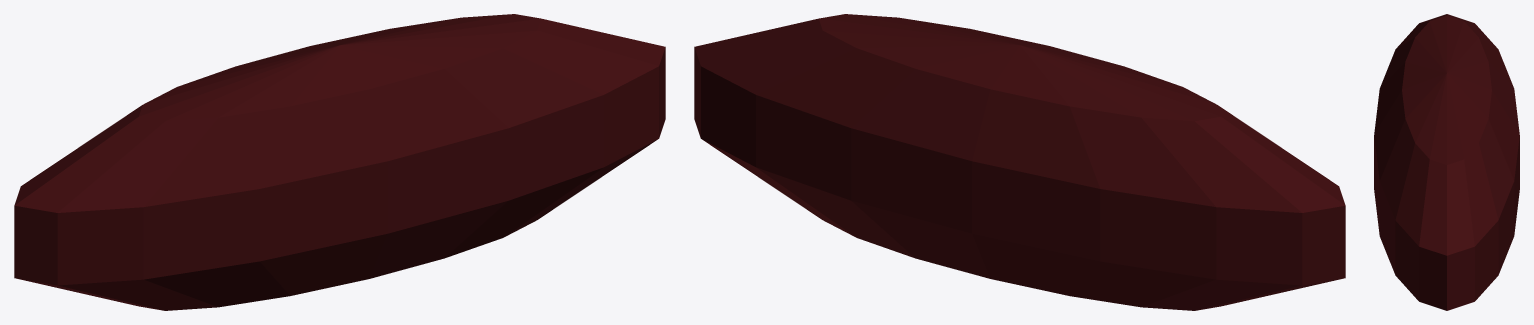
File: Mouth.obj
The picture shows the model from 3 angles, left to right: view 1: azimuth 30°, elevation 25°; view 2: azimuth 150°, elevation 25°; view 3: azimuth 270°, elevation 25°; orthographic projection. The views are drawn at different scales.
Parts seen in each view (by area): view 1: Mouth; view 2: Mouth; view 3: Mouth.
Part boxes in pixels (x1,y1,x2,y2): Mouth: (14, 14, 665, 310); Mouth: (694, 14, 1345, 310); Mouth: (1374, 14, 1519, 310).
Size of the model in its own units: 0.1046 by 0.036 by 0.0266.
